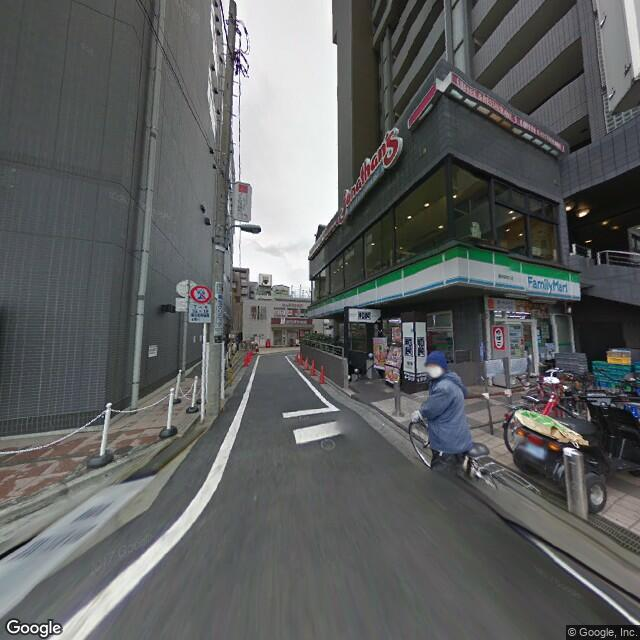family_mart: (307, 243, 459, 322), (458, 244, 582, 298), (522, 270, 571, 298)
